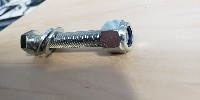FinishedAssembly: (18, 18, 138, 57)
